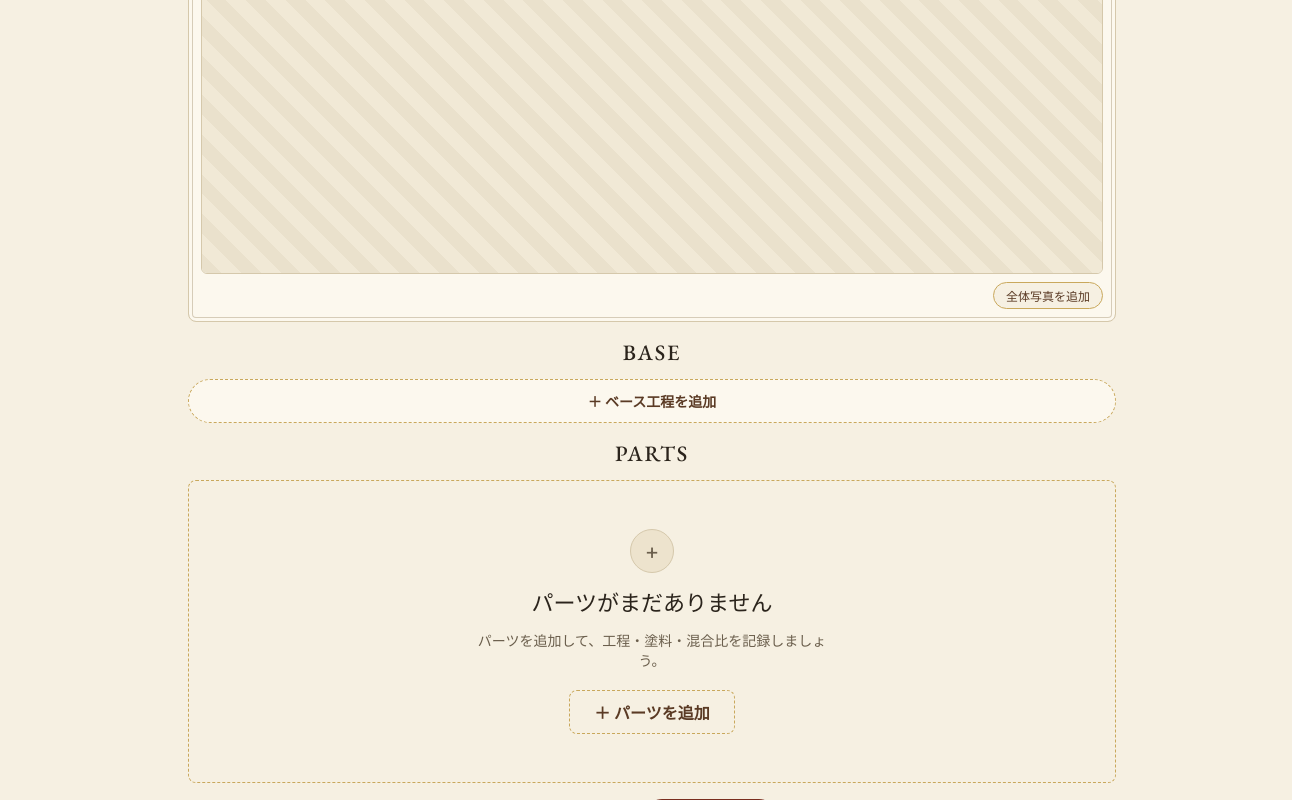
Test case: RecipeOverviewPage — BASEセクション（PARTS同様の独立カード。2026-07-03） › ベース工程0件時は破線ピルを表示し、タップで/recipe/:id/part/baseへnavigateする
This screenshot has width=1292, height=800.
(page scrolled)
Click the button "＋ ベース工程を追加" at [652, 400], box [188, 378, 1116, 422]
(page scrolled)
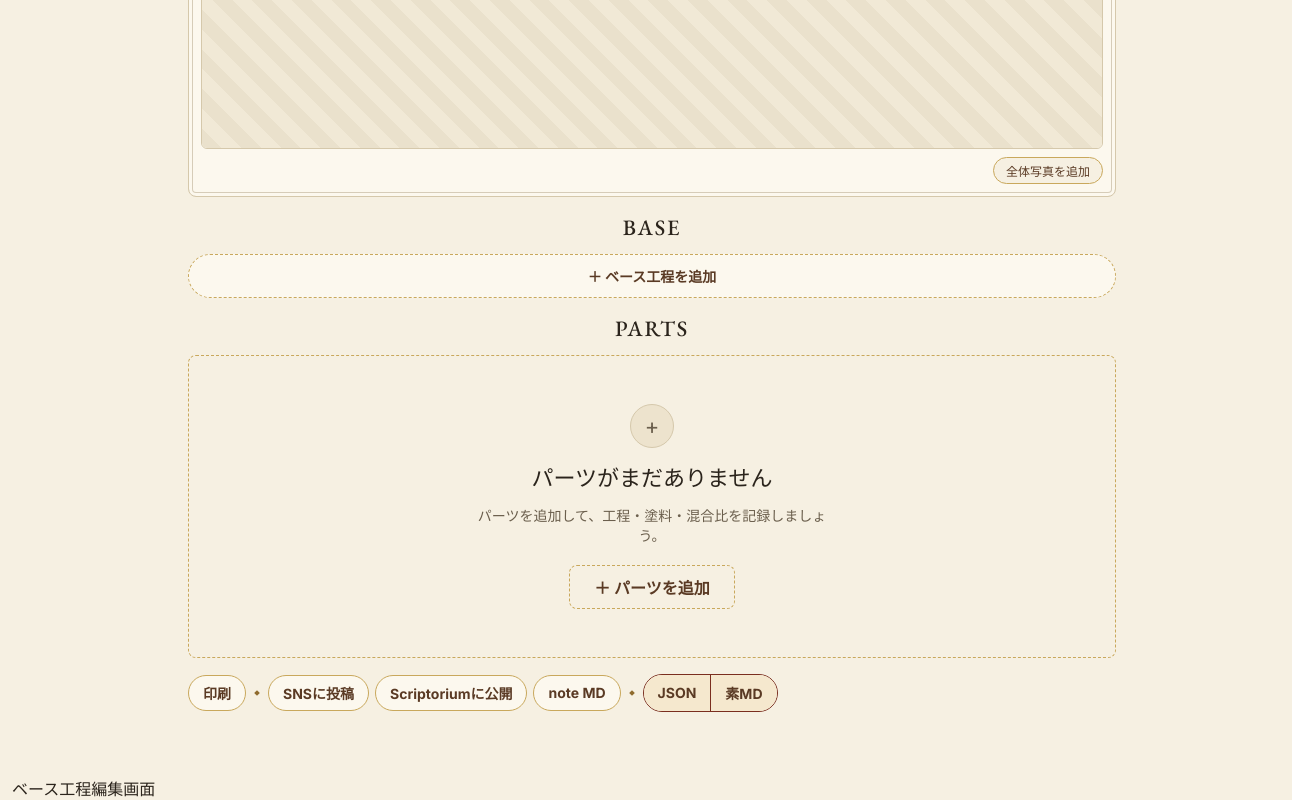
Check: the text "ベース工程編集画面" is shown, box [12, 778, 155, 798]
